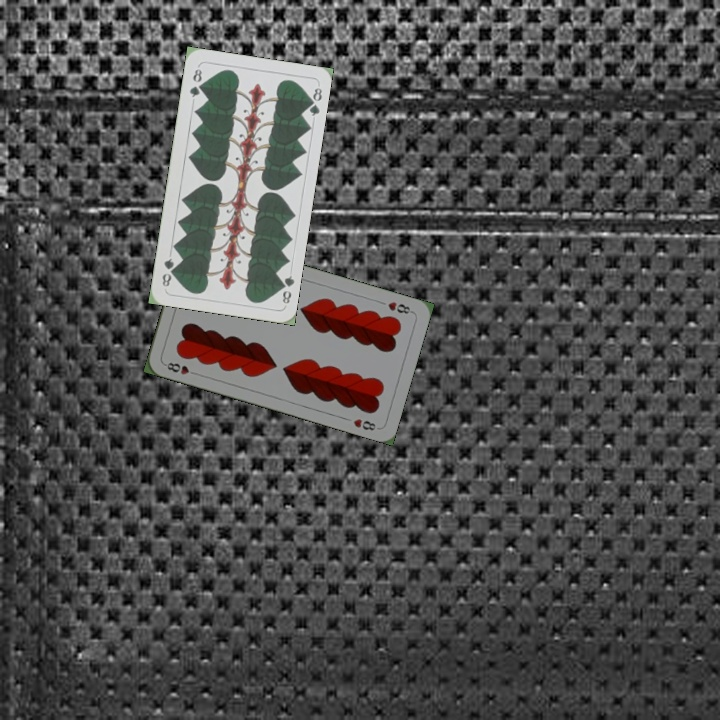G8: (275, 271, 297, 306), (185, 65, 204, 100)
H8: (160, 358, 200, 378), (384, 297, 415, 317)
